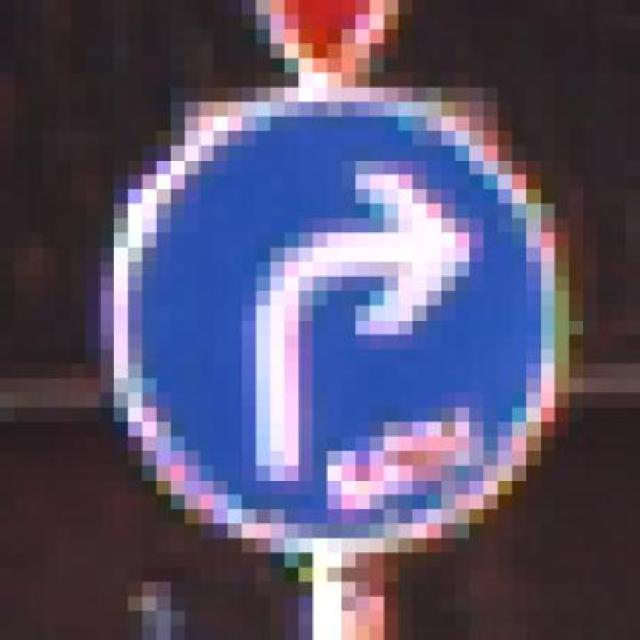Turn right ahead: (85, 72, 583, 568)
